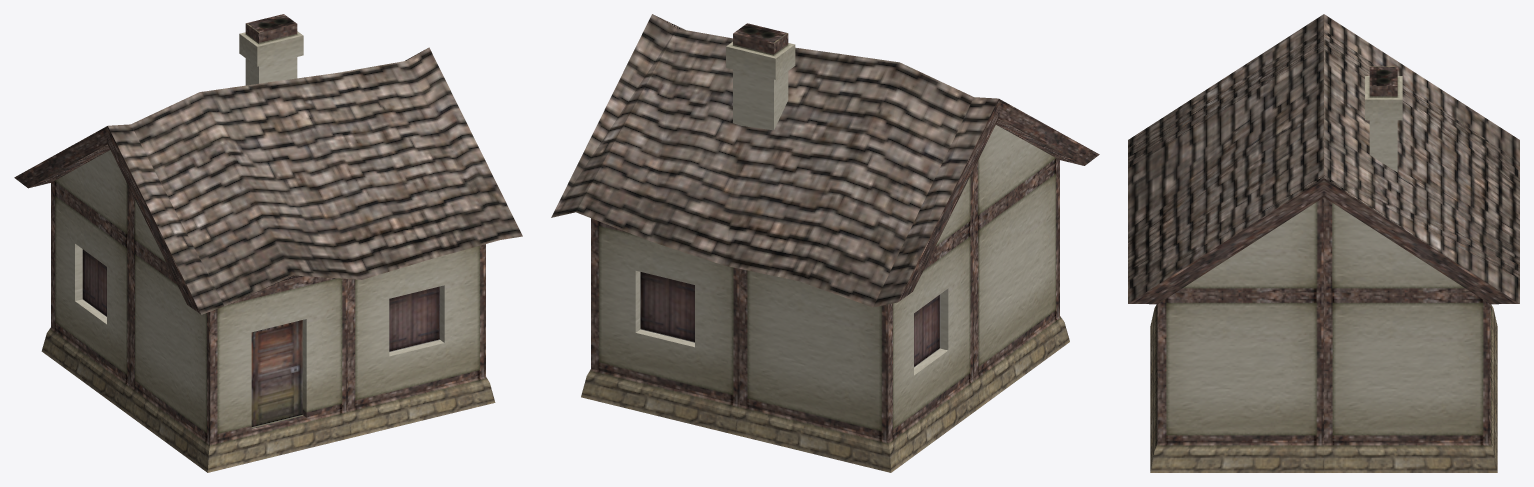
Rendered from s44_b_house_4_1.dae.
The picture shows the model from 3 angles, left to right: view 1: azimuth 30°, elevation 25°; view 2: azimuth 150°, elevation 25°; view 3: azimuth 270°, elevation 25°; orthographic projection. The views are drawn at different scales.
Parts seen in each view (by area): view 1: s44_b_house_1_1; view 2: s44_b_house_1_1; view 3: s44_b_house_1_1.
Part boxes in pixels (x1,y1,x2,y2): s44_b_house_1_1: (14,14,522,472); s44_b_house_1_1: (551,14,1099,472); s44_b_house_1_1: (1128,14,1519,472).
Size of the model in its own units: 56 by 56.55 by 54.08.
1 material, 1 textured.
